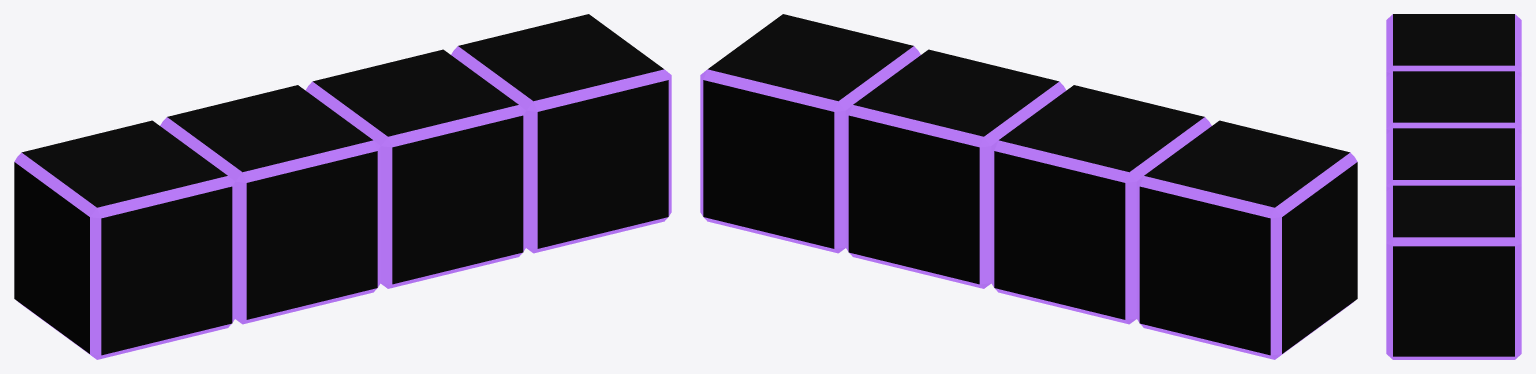
File: bricks-3.glb
3 renders of one model, left to right at view 1: azimuth 30°, elevation 25°; view 2: azimuth 150°, elevation 25°; view 3: azimuth 270°, elevation 25°, orthographic. The views are drawn at different scales.
Visible parts, largest first — view 1: brick-3; view 2: brick-3; view 3: brick-3.
Part boxes in pixels (x1,y1,x2,y2): brick-3: (14,14,671,359); brick-3: (700,14,1357,359); brick-3: (1386,14,1521,359).
Size of what is drawn, in the model's own units: 8 by 2 by 2.
